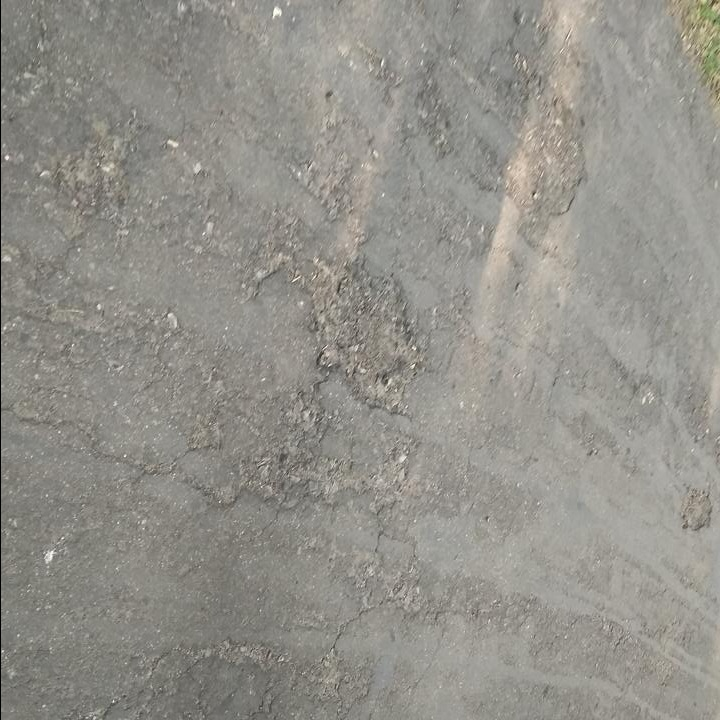pothole: (305, 248, 425, 402), (530, 94, 590, 219), (677, 480, 717, 535)
